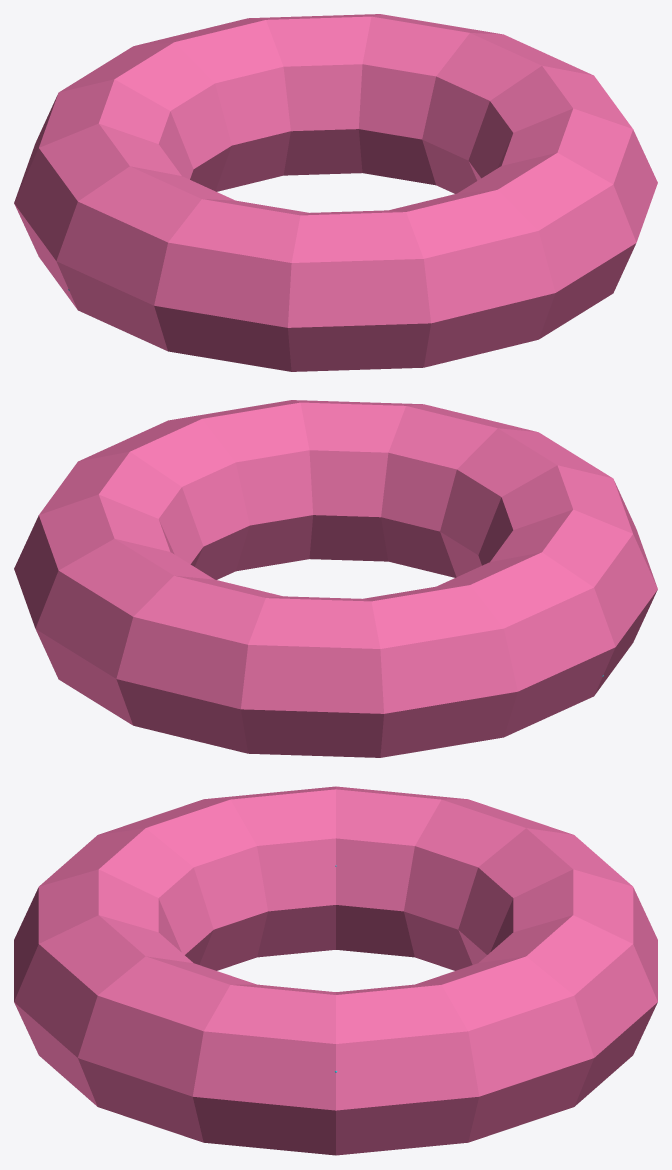
Rendered from jelly_ring.glb.
3 renders of one model, top to bottom at view 1: azimuth 30°, elevation 25°; view 2: azimuth 150°, elevation 25°; view 3: azimuth 270°, elevation 25°, orthographic. The views are drawn at different scales.
Parts seen in each view (by area): view 1: jelly_ring; view 2: jelly_ring; view 3: jelly_ring.
Boxes of the visible parts, bbox=[...] form: jelly_ring: bbox=[14, 14, 657, 371]; jelly_ring: bbox=[14, 400, 657, 757]; jelly_ring: bbox=[14, 786, 657, 1155].
Size of the model in its own units: 2.28 by 0.6 by 2.22.
